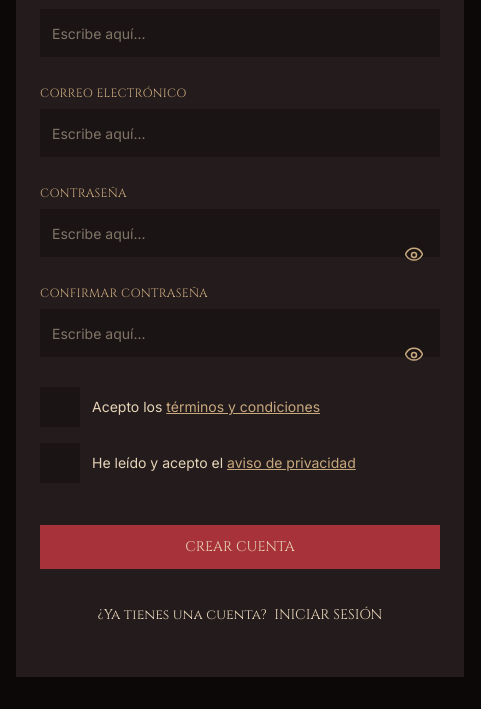
Test: lists every missing field when submitting an empty form
This screenshot has width=481, height=709.
(page scrolled)
Click the button "Crear cuenta" at coordinates (240, 547), box [40,525,440,569]
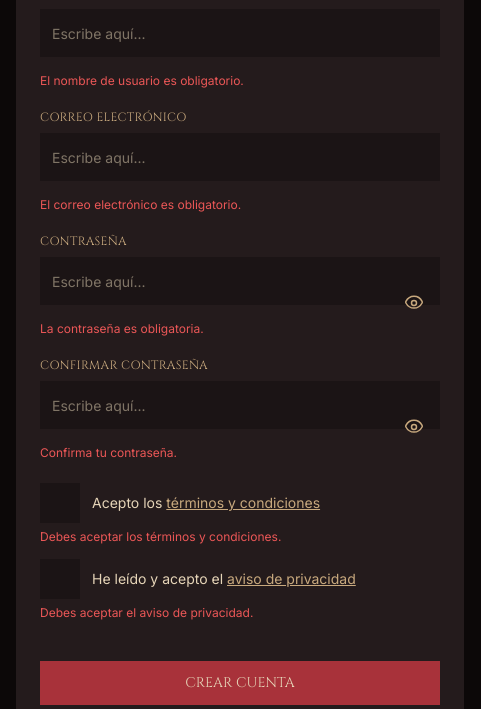
Expected: the text "El nombre de usuario es obligatorio." is shown, [40,73,244,88]
Expected: the text "El correo electrónico es obligatorio." is shown, [40,197,241,212]
Expected: the text "La contraseña es obligatoria." is shown, [40,321,204,336]
